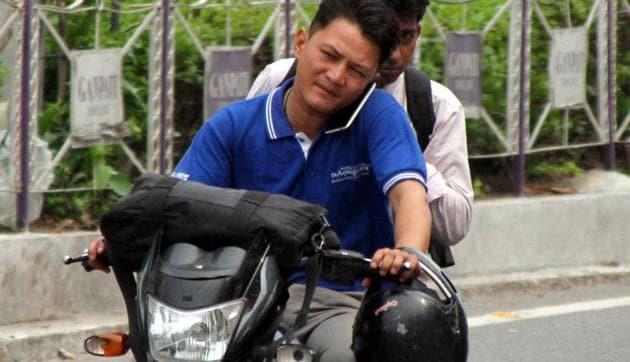nohelmet: (281, 0, 396, 117), (375, 0, 429, 81)
